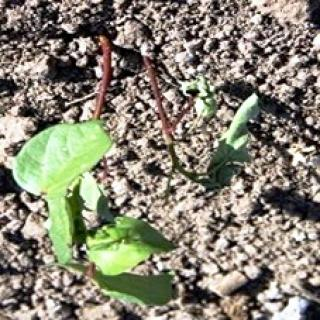wilt: (89, 217, 178, 273)
